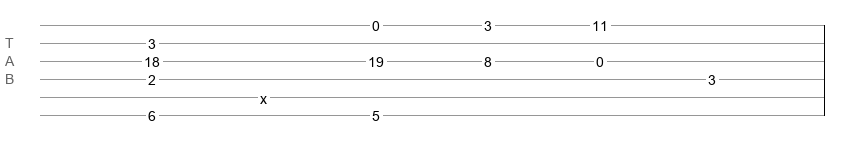0: (372, 18, 380, 28), (596, 54, 604, 64)
11: (592, 18, 608, 28)
18: (144, 54, 160, 64)
19: (368, 54, 384, 64)
2: (148, 72, 156, 82)
3: (148, 36, 156, 46), (484, 18, 492, 28), (708, 72, 716, 82)
5: (372, 108, 380, 118)
6: (148, 108, 156, 118)
8: (484, 54, 492, 64)
x: (260, 91, 267, 99)
